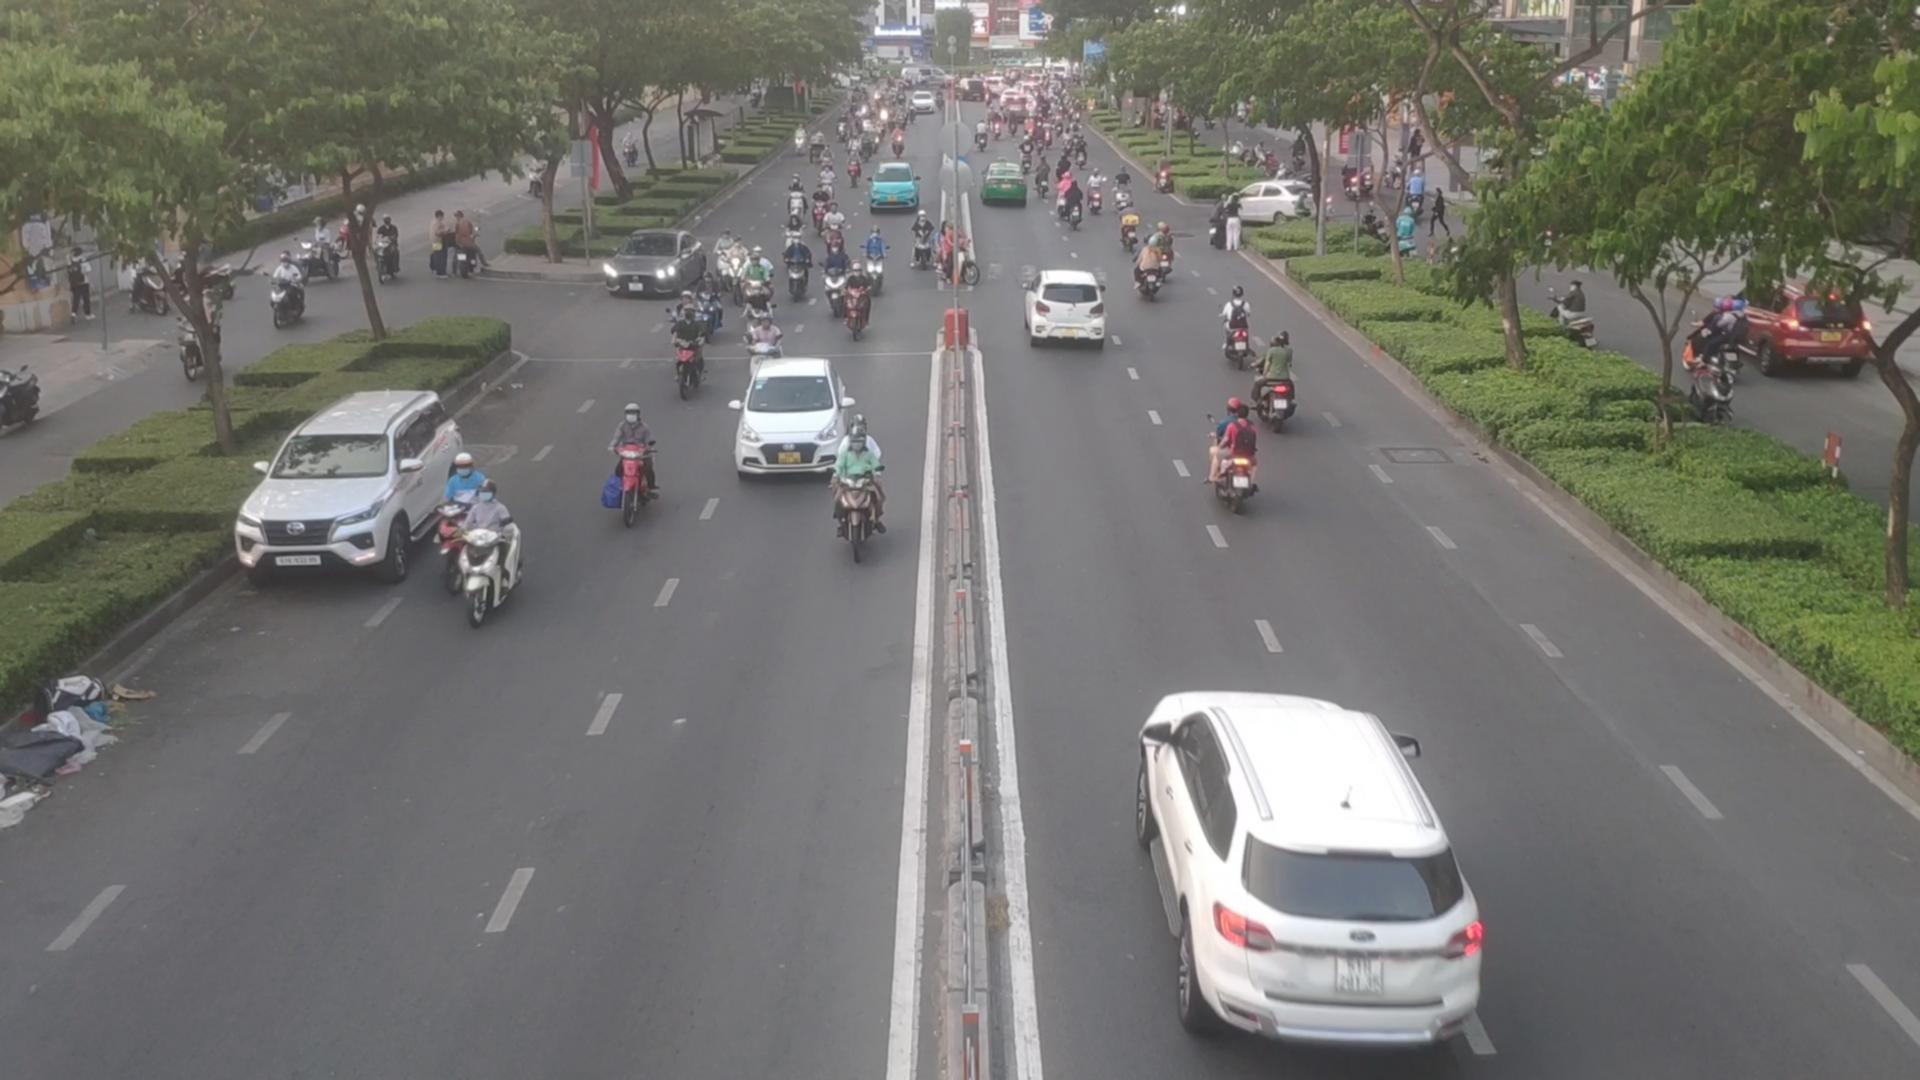car: (1145, 700, 1487, 1062), (231, 392, 483, 585), (729, 360, 852, 473), (1739, 290, 1876, 386), (603, 232, 713, 301), (1025, 272, 1112, 347), (975, 162, 1031, 214), (866, 160, 923, 210)
motorbike: (822, 439, 895, 555), (597, 397, 669, 513), (433, 451, 487, 589), (464, 489, 512, 628), (1209, 398, 1261, 521), (1259, 331, 1308, 433), (669, 307, 712, 402), (1216, 278, 1255, 367), (744, 316, 785, 382), (840, 268, 873, 336), (742, 251, 774, 316), (727, 225, 752, 305), (819, 243, 847, 311), (1147, 214, 1178, 276), (1135, 240, 1163, 301), (869, 229, 894, 290), (822, 199, 851, 249), (696, 272, 719, 336), (789, 244, 811, 306), (778, 211, 808, 256), (712, 231, 735, 284), (1116, 207, 1139, 256), (783, 174, 806, 224), (1065, 179, 1087, 229), (810, 186, 829, 237), (1113, 165, 1135, 210), (1033, 158, 1055, 200), (1088, 161, 1105, 214), (819, 164, 841, 202)
